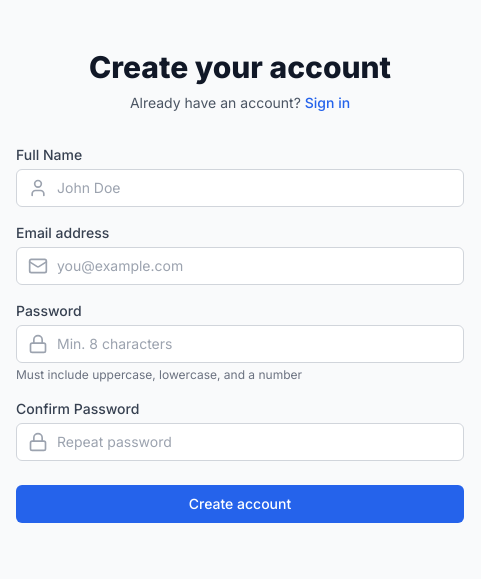
Scenario: RegisterPage › Password validation › rejects mismatched passwords
Step 1. Type "test@example.com" into the field labelled "Email address" → (240, 266), box [16,247,464,285]
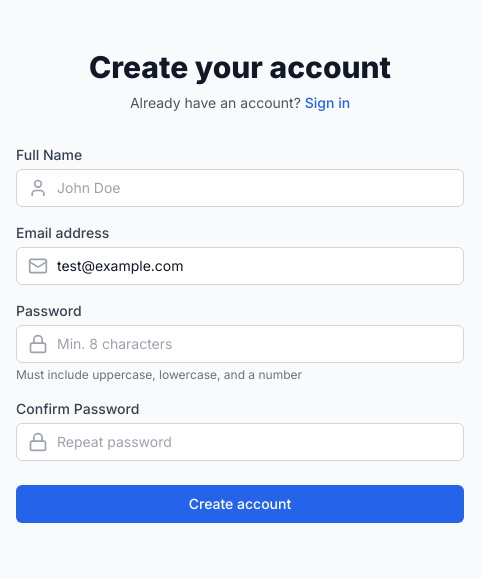
Step 2. Type "ValidPass1" into the password field labelled "Password" → (240, 344), box [16,325,464,363]
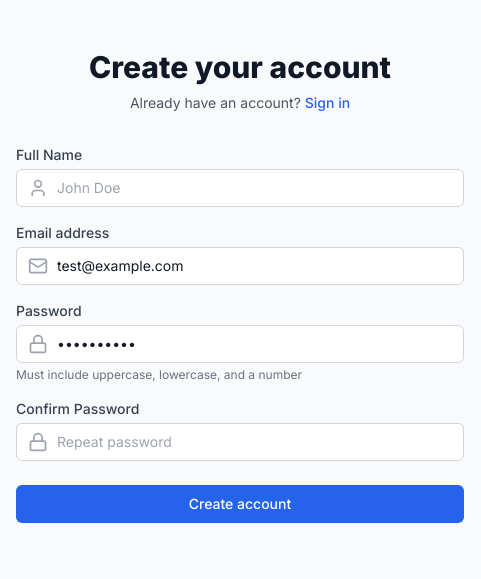
Step 3. Type "DifferentPass1" into the password field labelled "Confirm Password" → (240, 442), box [16,423,464,461]
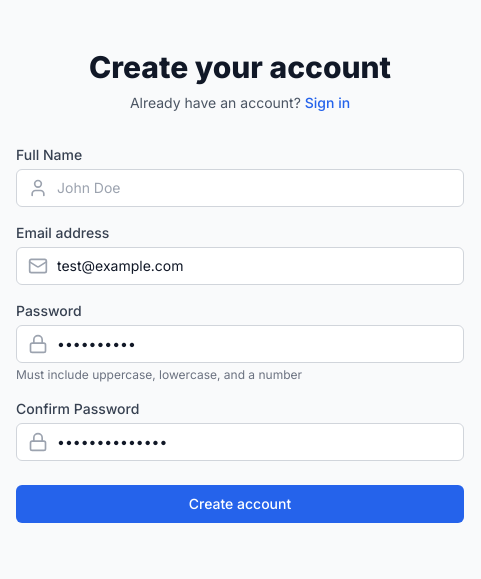
Step 4. Submit the form from the button "Create account", box [16,485,464,523]
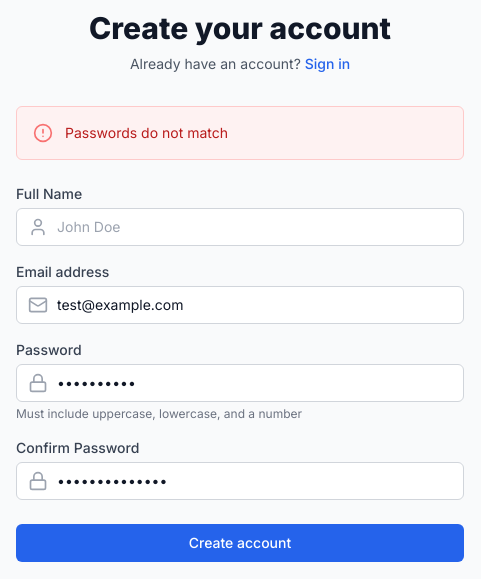
Result: the text "Passwords do not match" is shown at [65,123,228,143]
